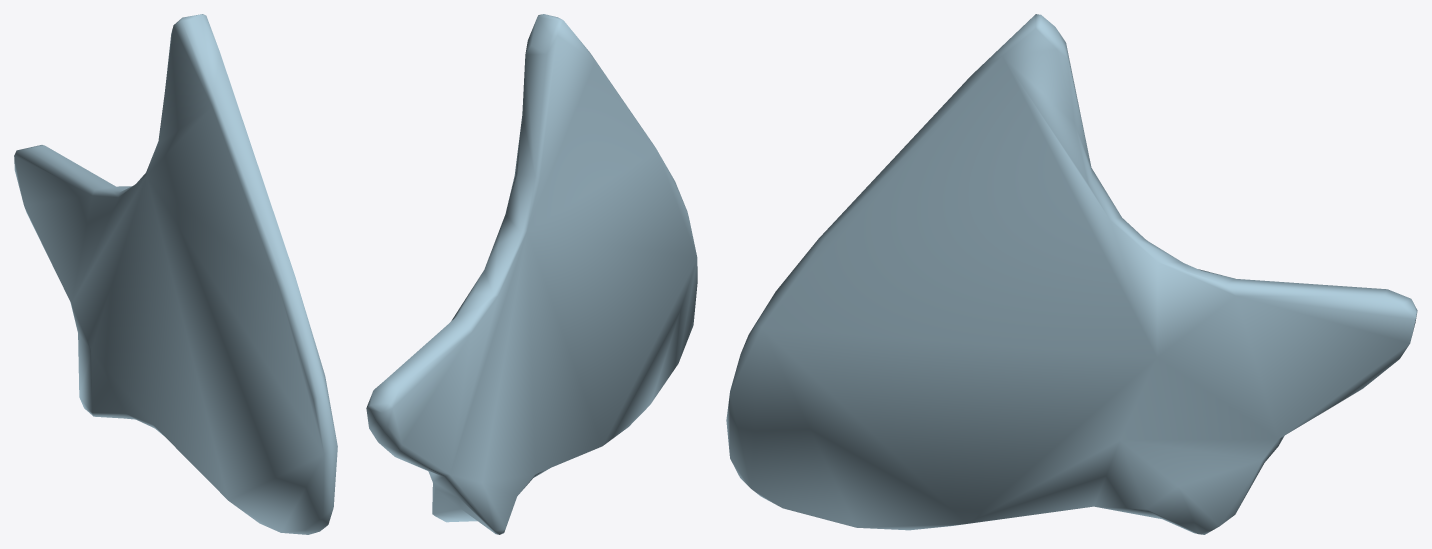
The model's file is esqueleto-nasal-septal-cartilage.glb.
The picture shows the model from 3 angles, left to right: view 1: azimuth 30°, elevation 25°; view 2: azimuth 150°, elevation 25°; view 3: azimuth 270°, elevation 25°; orthographic projection. The views are drawn at different scales.
Parts seen in each view (by area): view 1: Nasal septal cartilage; view 2: Nasal septal cartilage; view 3: Nasal septal cartilage.
Part boxes in pixels (box(x1,y1,x2,y2)): Nasal septal cartilage: box(14, 14, 337, 534); Nasal septal cartilage: box(366, 14, 697, 534); Nasal septal cartilage: box(726, 14, 1417, 534).
Size of the model in its own units: 0.00483 by 0.0344 by 0.0423.
